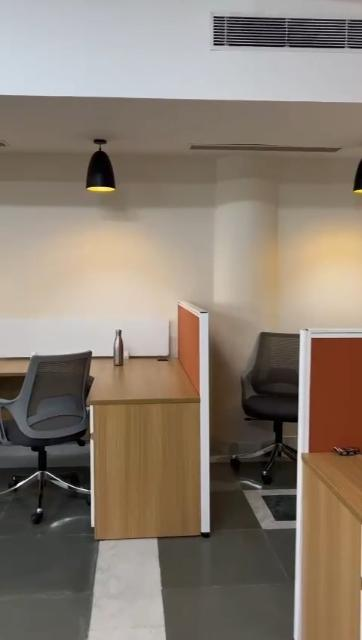floor: (0, 479, 290, 640)
object: (301, 340, 362, 639), (104, 360, 204, 536), (4, 348, 94, 522), (234, 329, 294, 479), (111, 324, 131, 376)
wall: (10, 197, 362, 305), (7, 0, 213, 126), (218, 57, 362, 131), (180, 158, 348, 218), (0, 147, 82, 211), (244, 292, 362, 332), (124, 138, 192, 200), (219, 296, 250, 372)
